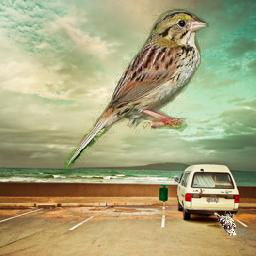Sparrow: (65, 7, 210, 169), (213, 212, 237, 237)
